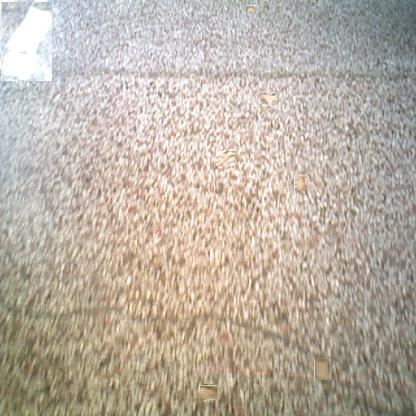dirty: (1, 1, 52, 81), (314, 358, 331, 380), (217, 150, 235, 167), (260, 92, 276, 110), (200, 385, 217, 401), (292, 176, 308, 191), (246, 5, 258, 14)
